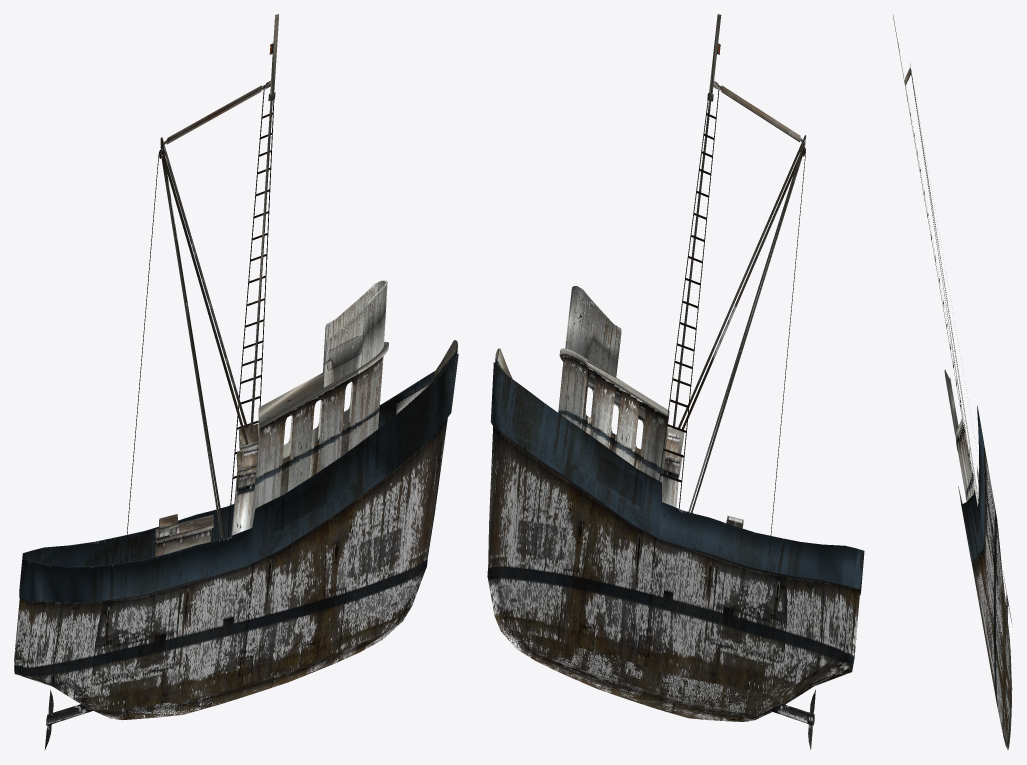
File: boatShade.obj
3 views of the same model, side by side, from view 1: azimuth 30°, elevation 25°; view 2: azimuth 150°, elevation 25°; view 3: azimuth 270°, elevation 25° (orthographic). The views are drawn at different scales.
Parts seen in each view (by area): view 1: boat_fishing_01; view 2: boat_fishing_01; view 3: boat_fishing_01.
Part boxes in pixels (x1=…): boat_fishing_01: x1=14, y1=14, x2=458, y2=750; boat_fishing_01: x1=487, y1=14, x2=864, y2=749; boat_fishing_01: x1=893, y1=15, x2=1012, y2=750.
Size of the model in its own units: 3.75 by 6.23 by 0.9815.
